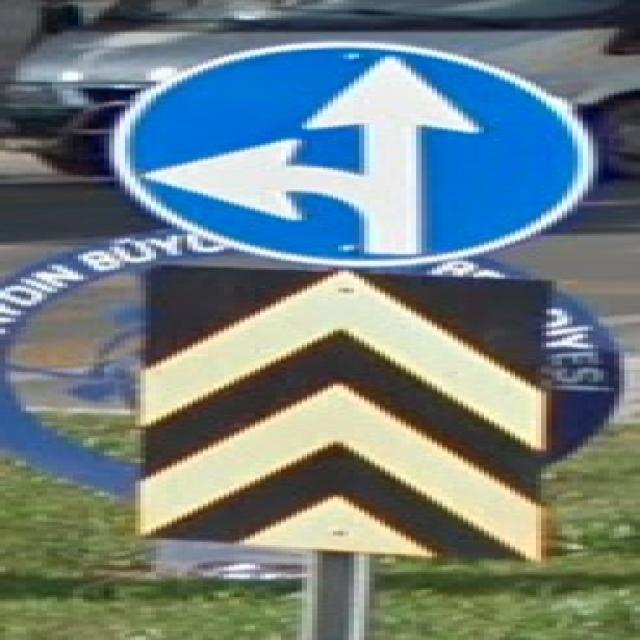Straight or Left: (113, 42, 597, 267)
